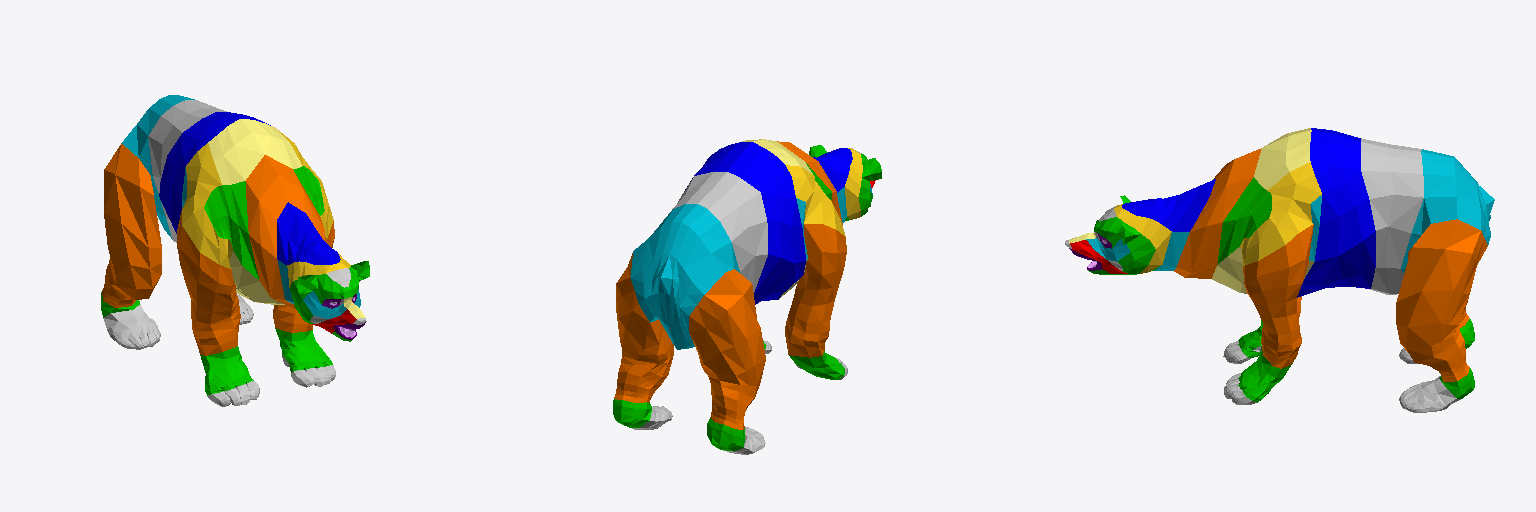
File: bear.obj
3 renders of one model, left to right at view 1: azimuth 30°, elevation 25°; view 2: azimuth 150°, elevation 25°; view 3: azimuth 270°, elevation 25°, orthographic.
Visible parts, largest first — view 1: BasicHumanMesh; view 2: BasicHumanMesh; view 3: BasicHumanMesh.
Part boxes in pixels (left/top/right/bottom): BasicHumanMesh: left=101, top=95, right=369, bottom=406; BasicHumanMesh: left=613, top=139, right=881, bottom=454; BasicHumanMesh: left=1065, top=128, right=1494, bottom=412.
Bounding box in the file's own units: 8.45 × 13.68 × 21.16.